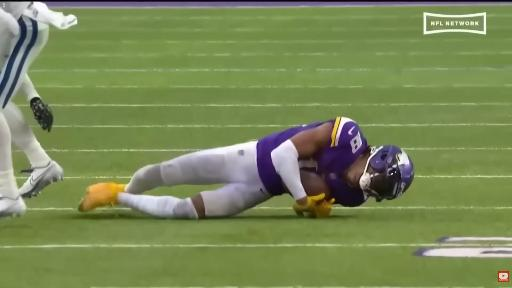Helmet: (360, 146, 414, 201)
Jersey: (257, 117, 367, 206), (2, 2, 31, 20)
Player: (79, 118, 413, 218), (0, 2, 76, 216)
